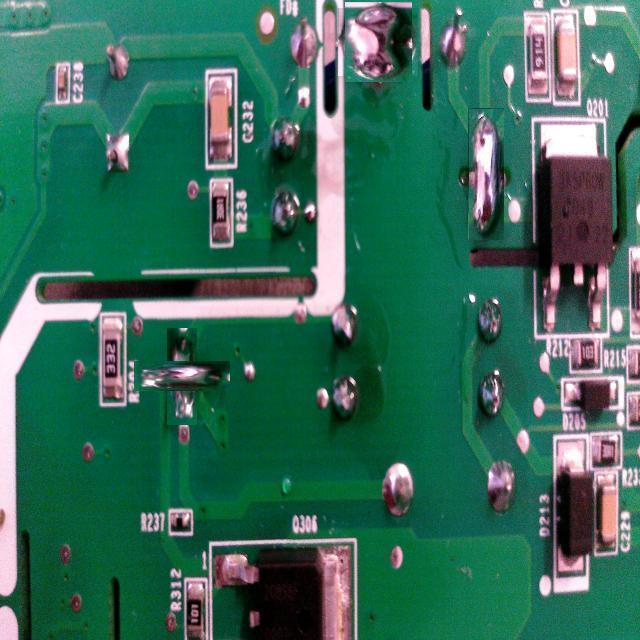Short_circuit: (342, 5, 416, 79), (468, 108, 504, 240), (150, 345, 214, 408)
